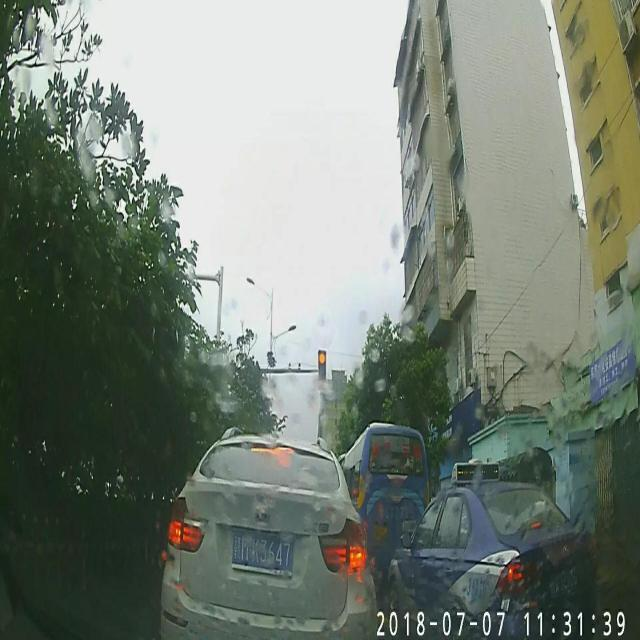car: (158, 432, 368, 640), (398, 460, 597, 640)
